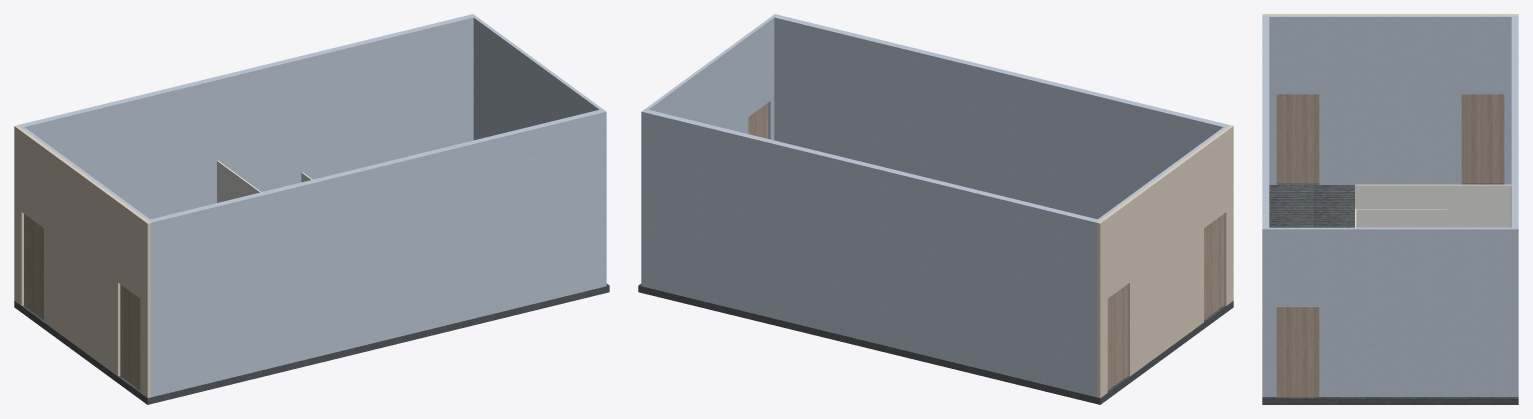
The model's file is room-bodyshape.glb.
The picture shows the model from 3 angles, left to right: view 1: azimuth 30°, elevation 25°; view 2: azimuth 150°, elevation 25°; view 3: azimuth 270°, elevation 25°; orthographic projection. The views are drawn at different scales.
Parts seen in each view (by area): view 1: 默认; view 2: 默认; view 3: 默认.
Part boxes in pixels (<box>): 默认: <box>14,14,609,404</box>; 默认: <box>638,14,1233,404</box>; 默认: <box>1262,14,1518,404</box>.
Bounding box in the file's own units: 0.9144 × 0.3429 × 0.4572.
Materials: 5 (5 with a texture image).
